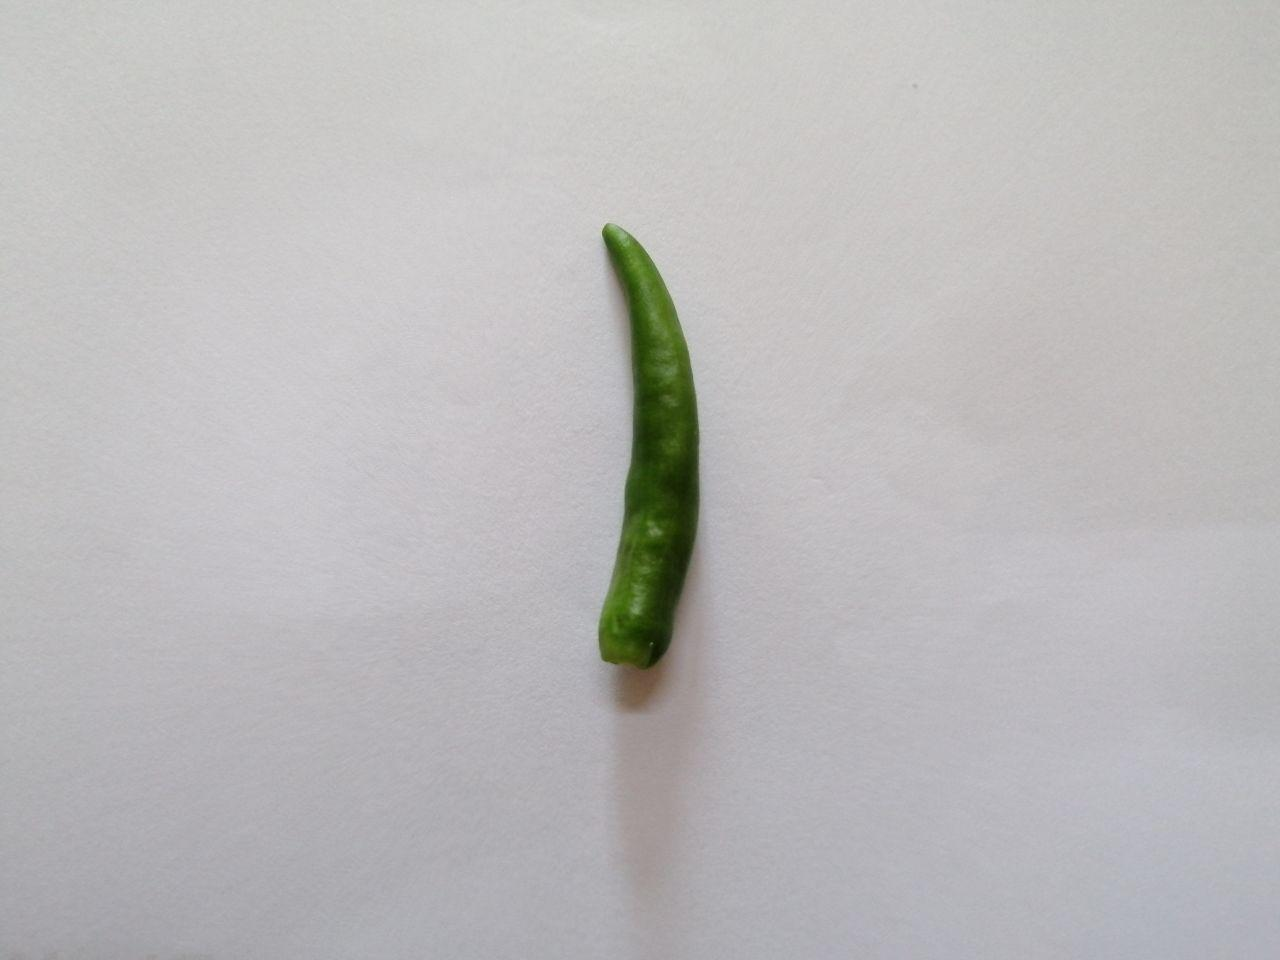lada hijau: (568, 200, 712, 717)
